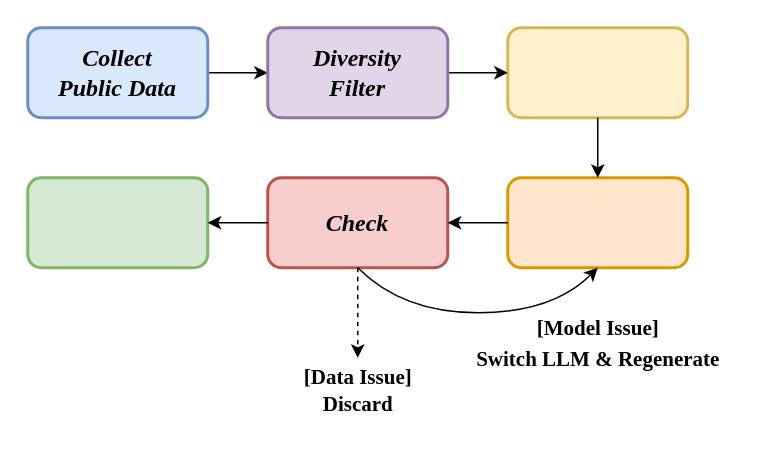
Image size: 765x476. Some labels were removed from this diagram. The shapes that lost their labels are listed below. From the top down, each one's box as (x1, y1, x2, y2) in pixels, then its label:
(506, 26, 688, 118): Deduplicate
(26, 176, 208, 268): Final Verification
(506, 176, 688, 268): Translate
